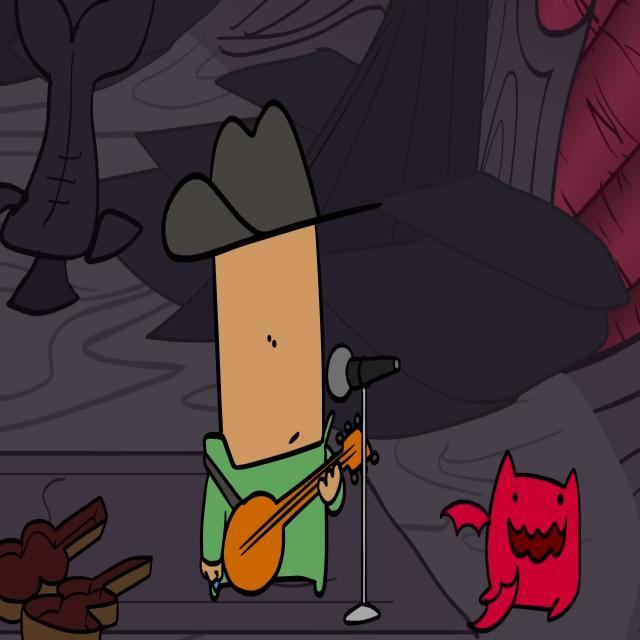Banjovi: (196, 99, 346, 596)
